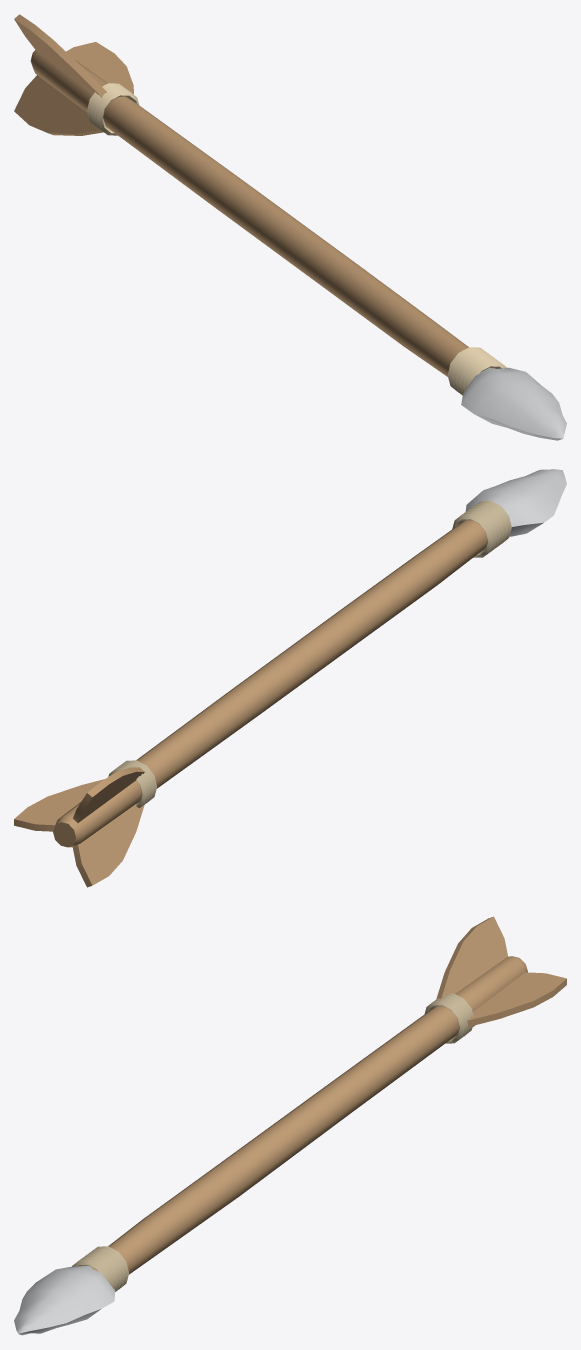
File: SpearProjectile.fbx
3 renders of one model, top to bottom at view 1: azimuth 30°, elevation 25°; view 2: azimuth 150°, elevation 25°; view 3: azimuth 330°, elevation 25°, orthographic. The views are drawn at different scales.
Visible parts, largest first — view 1: SpearProjectile; view 2: SpearProjectile; view 3: SpearProjectile.
Boxes of the visible parts, x1,y1,x2,y2 form: SpearProjectile: [14, 14, 566, 440]; SpearProjectile: [14, 469, 566, 887]; SpearProjectile: [14, 916, 566, 1335].
Size of the model in its own units: 0.2376 by 0.2418 by 2.22.
